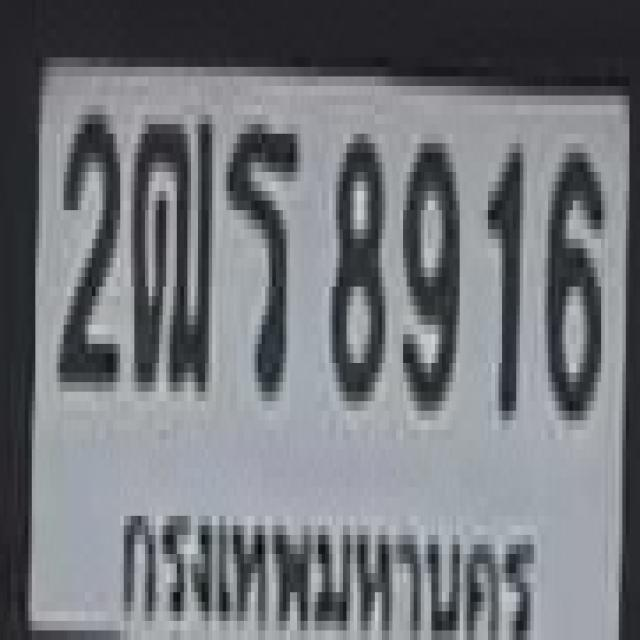-: (129, 105, 207, 382), (223, 115, 297, 392)
1: (484, 134, 520, 410)
2: (53, 105, 117, 382)
6: (545, 143, 601, 411)
8: (329, 124, 382, 392)
9: (400, 134, 456, 401)
BKK: (114, 478, 539, 640)
